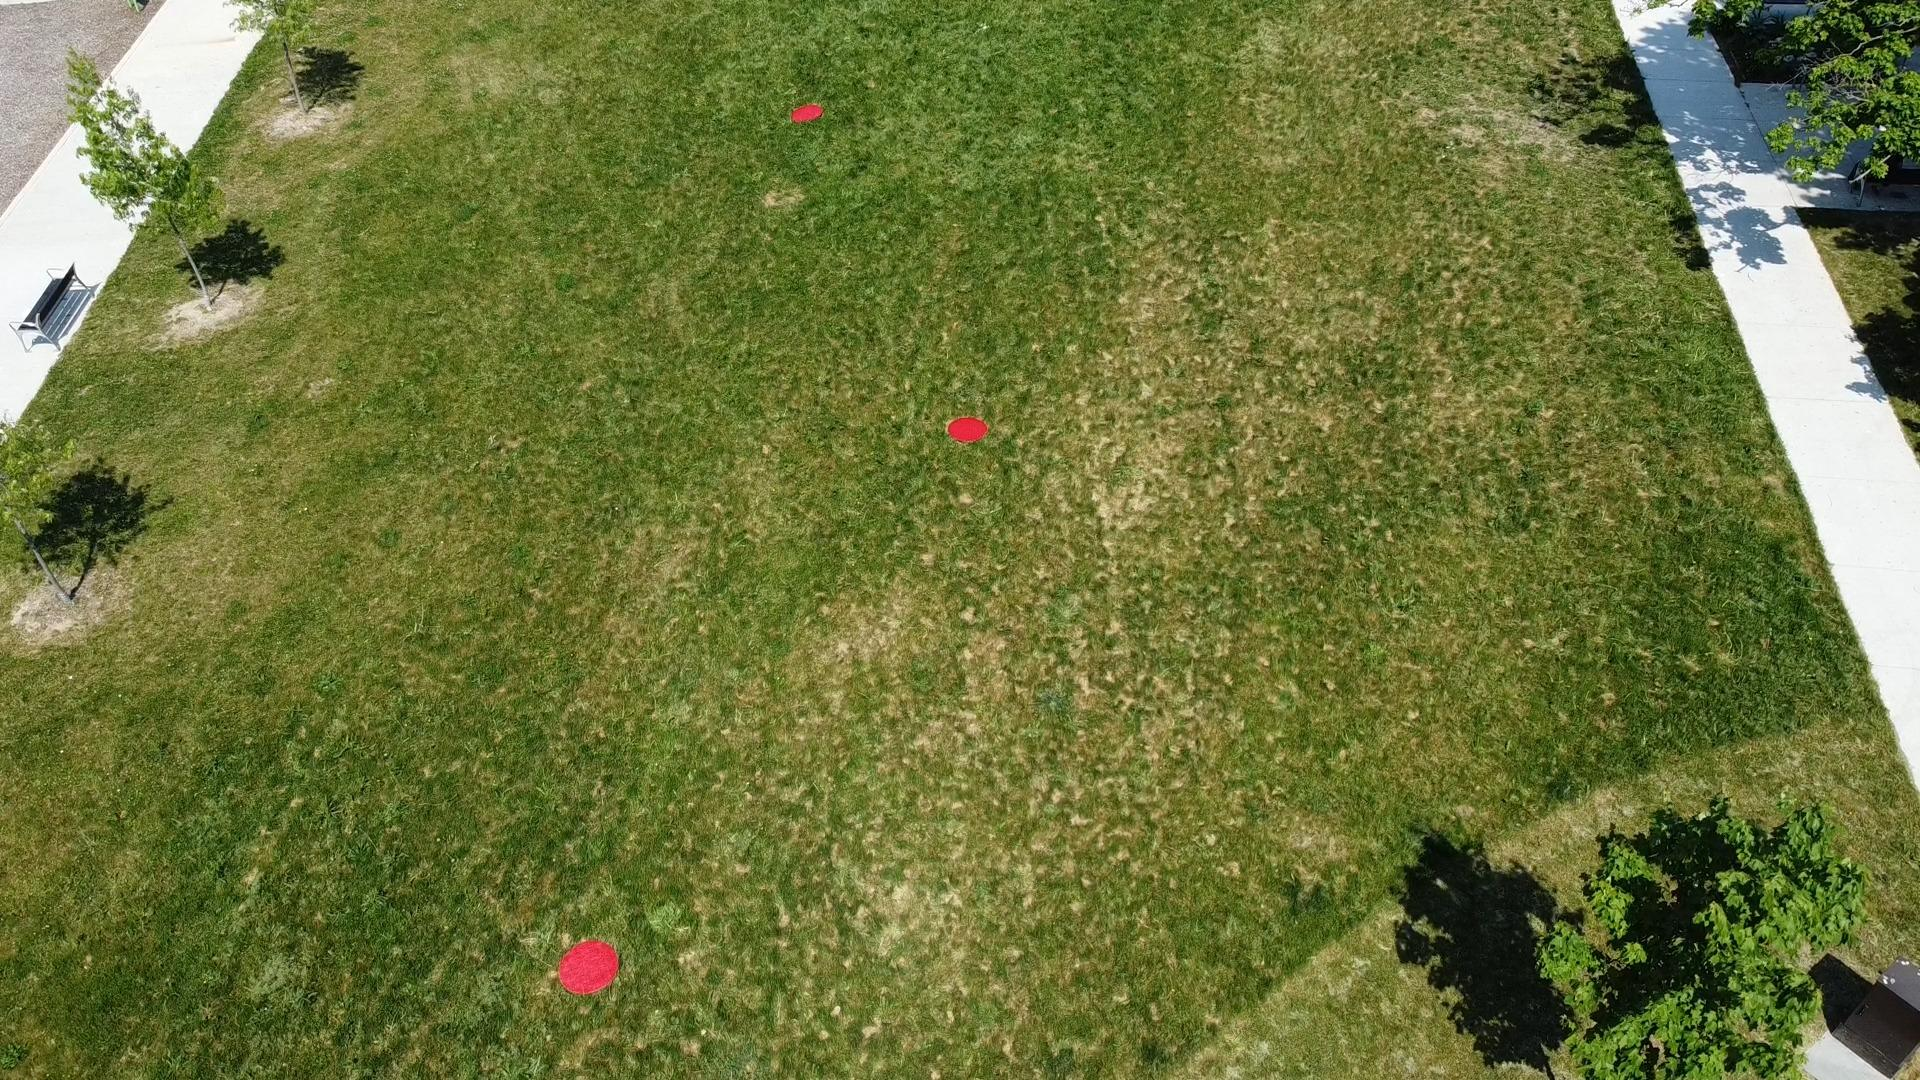Red: (553, 938, 625, 998), (945, 413, 990, 447), (787, 103, 828, 124)
